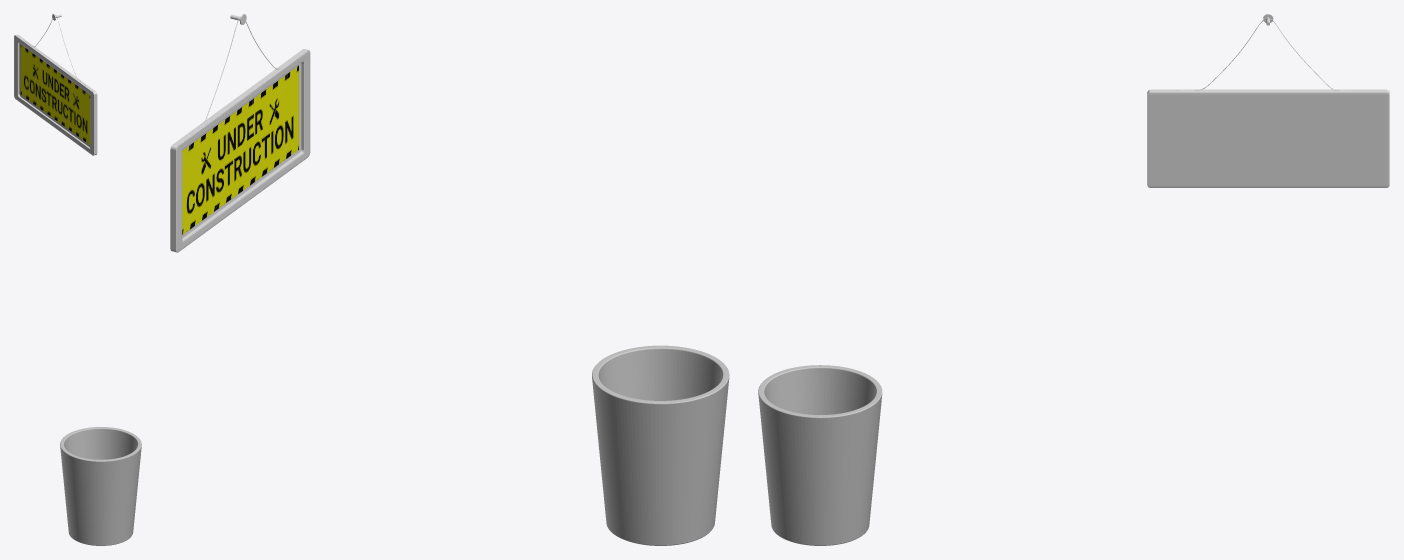
File: xxxxxxxx.fbx
The picture shows the model from 3 angles, left to right: view 1: azimuth 30°, elevation 25°; view 2: azimuth 150°, elevation 25°; view 3: azimuth 270°, elevation 25°; orthographic projection. The views are drawn at different scales.
Visible parts, largest first — view 1: livingroom:trash_can1, under_construction1:under_construction; view 2: livingroom:trash_can1, under_construction1:under_construction; view 3: under_construction1:under_construction, livingroom:trash_can1.
Part boxes in pixels (x1,y1,x2,y2): livingroom:trash_can1: [60, 427, 141, 545]; under_construction1:under_construction: [14, 14, 97, 155]; livingroom:trash_can1: [592, 345, 729, 545]; under_construction1:under_construction: [170, 14, 310, 252]; under_construction1:under_construction: [1147, 14, 1389, 187]; livingroom:trash_can1: [758, 365, 882, 545].
Bounding box in the file's own units: 5.22 × 13.45 × 13.14.
